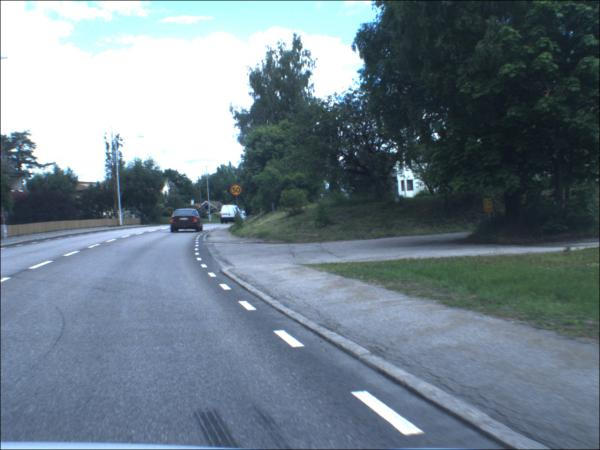50_SIGN: (231, 185, 244, 198)
